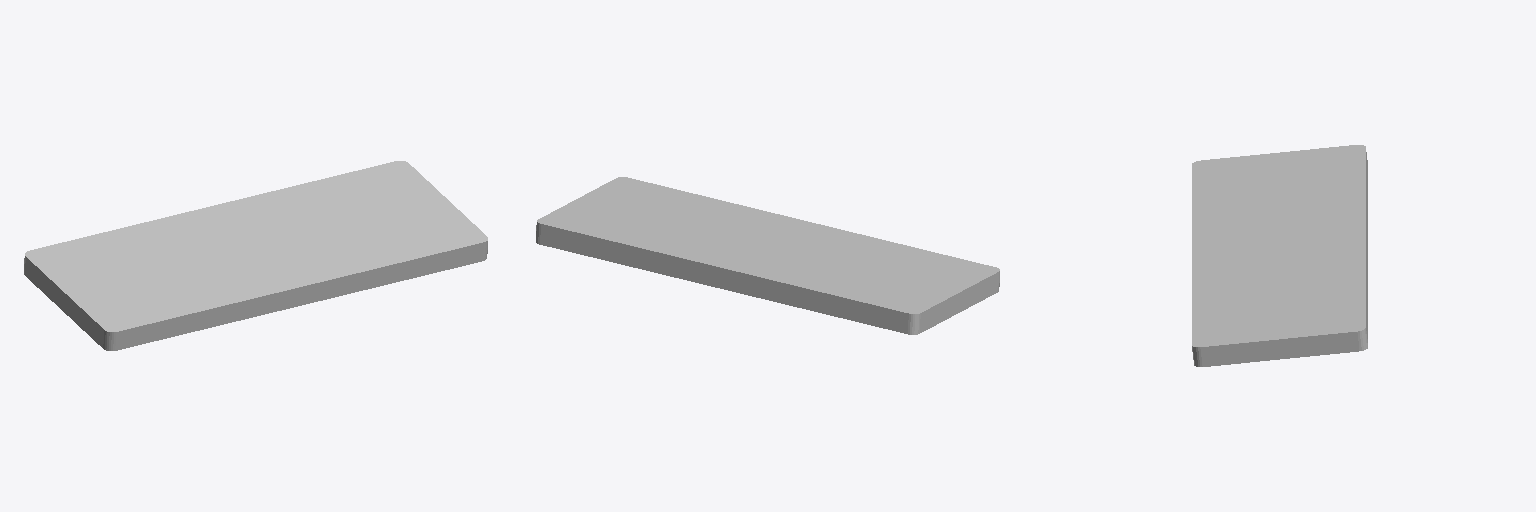
Rendered from original-48.obj.
The picture shows the model from 3 angles: view 1: azimuth 30°, elevation 25°; view 2: azimuth 150°, elevation 25°; view 3: azimuth 270°, elevation 25°; orthographic projection.
Parts seen in each view (by area): view 1: mesh47/mesh47-geometry#mesh47-geometry; view 2: mesh47/mesh47-geometry#mesh47-geometry; view 3: mesh47/mesh47-geometry#mesh47-geometry.
Boxes of the visible parts, x1,y1,x2,y2 form: mesh47/mesh47-geometry#mesh47-geometry: [24, 161, 487, 350]; mesh47/mesh47-geometry#mesh47-geometry: [536, 177, 999, 334]; mesh47/mesh47-geometry#mesh47-geometry: [1192, 145, 1367, 366].
Bounding box in the file's own units: 0.2546 × 0.0238 × 0.1019.